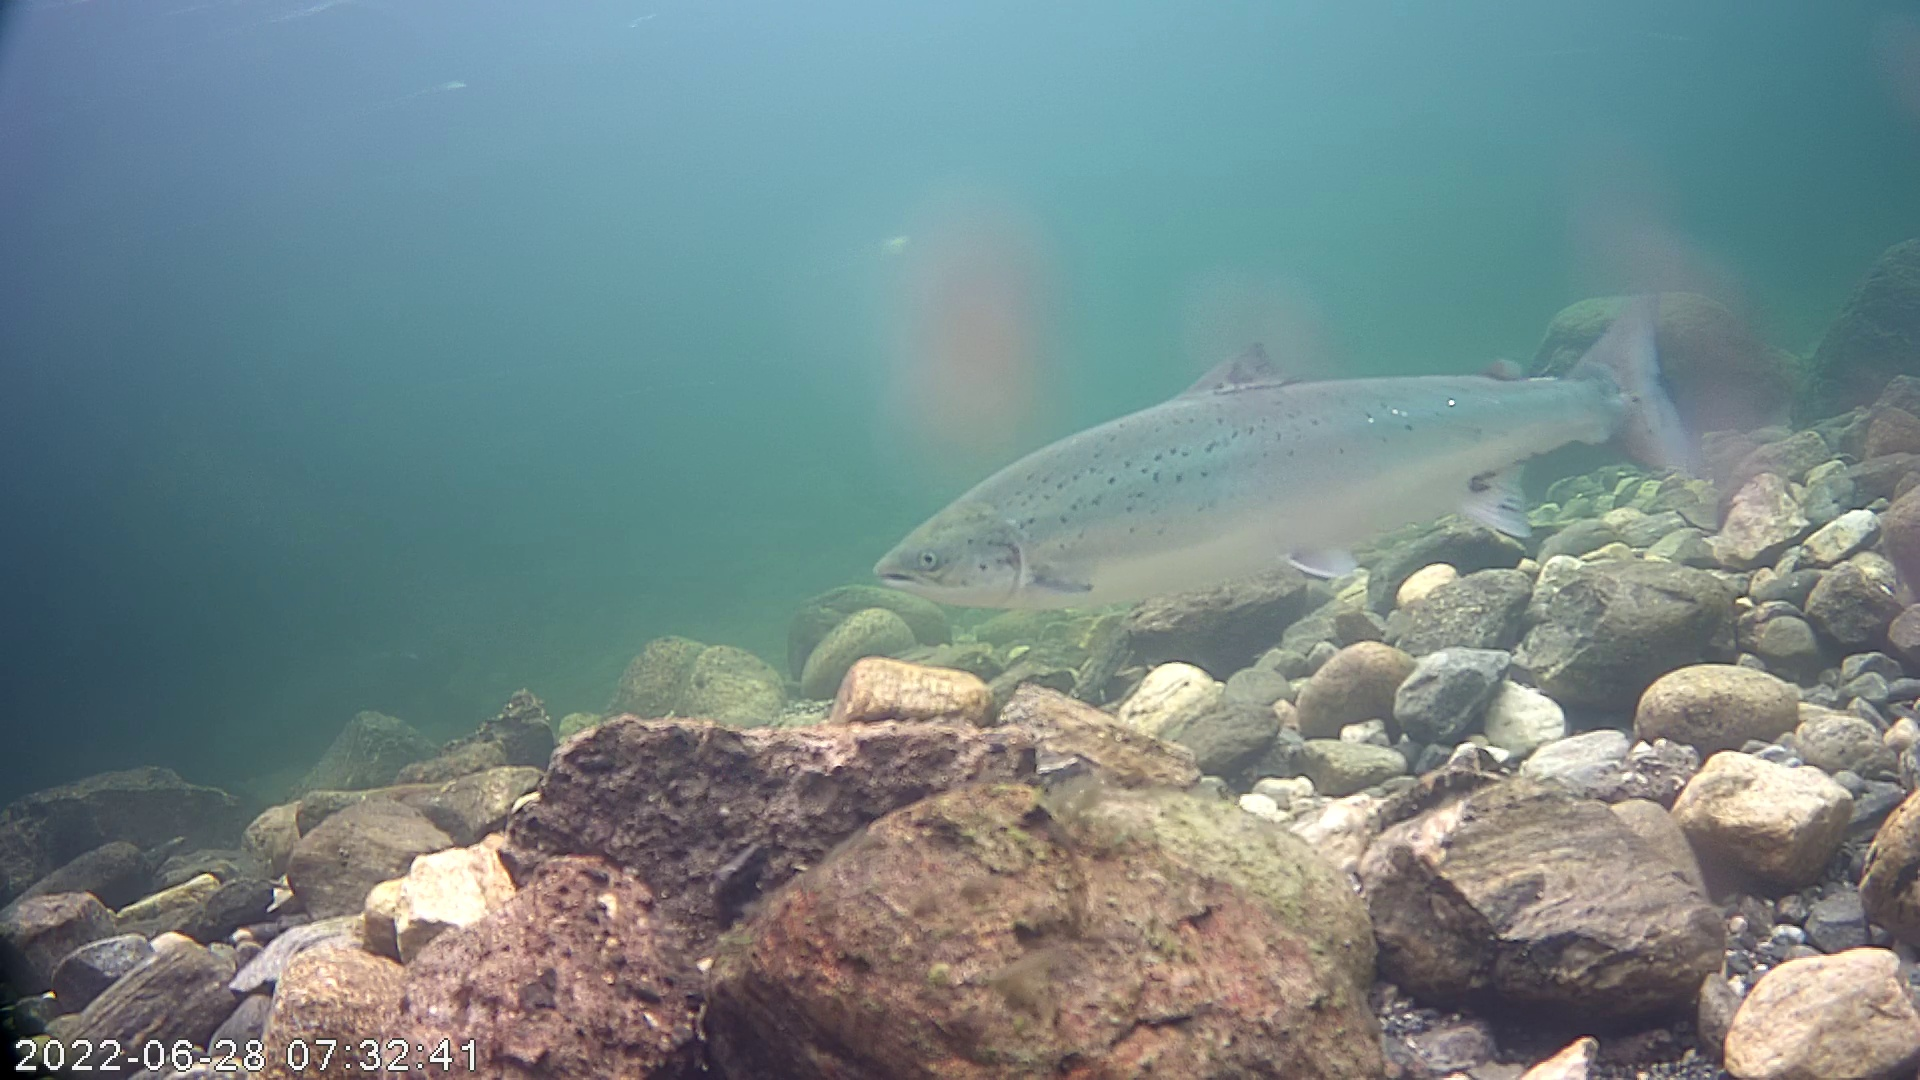salmon: (866, 236, 1718, 661)
